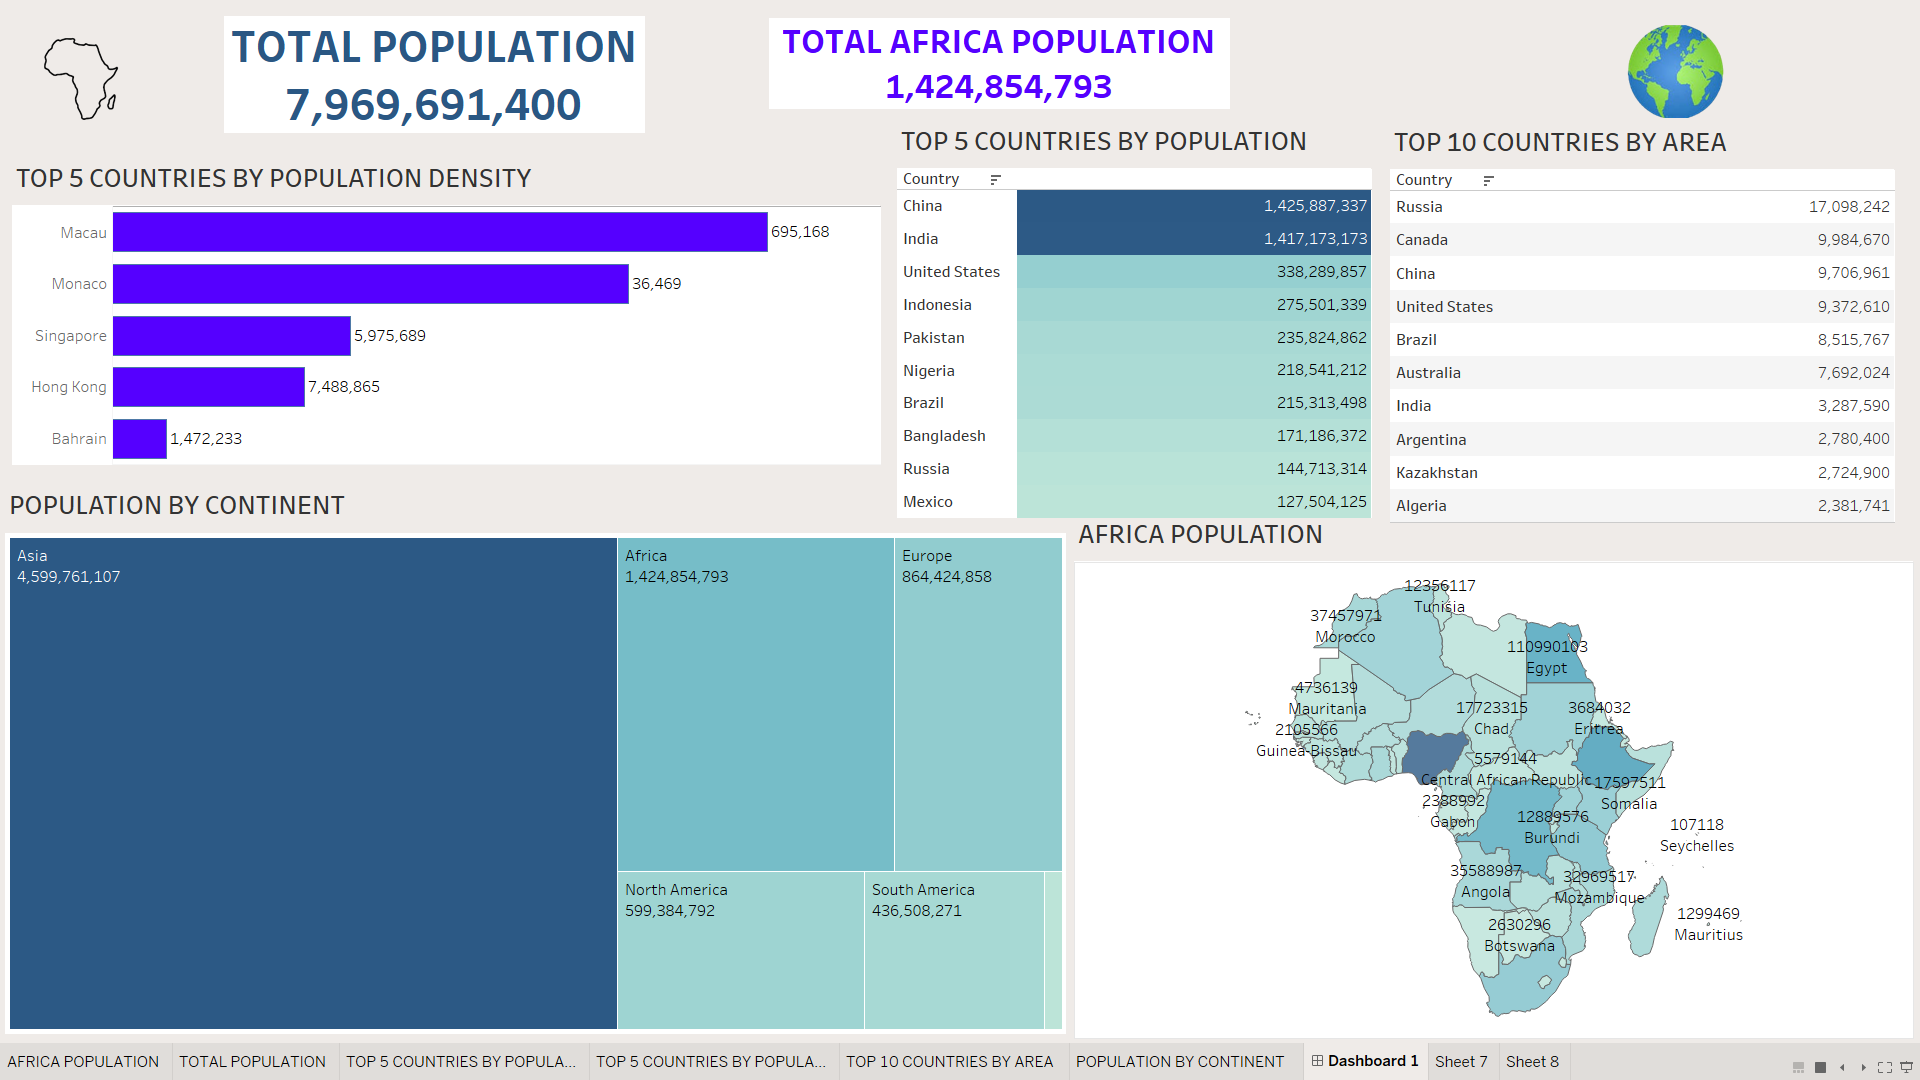

The dashboard page shown, as its layout file describes it:
{"tool":"tableau","page":{"name":"Dashboard 1","canvas":[1000,1000],"units":"permille","ordinal":0},"visuals":[{"type":"worksheet","title":"TOTAL POPULATION","mark":"Text","box":[116.5,15.3,315.6,138.7]},{"type":"worksheet","title":"Sheet 7","mark":"Automatic","box":[400.7,17.6,254.1,141]},{"type":"image","param":"C:/Users/USER/Downloads/AFRICA-removebg-preview (1).png","box":[7.2,21.2,90.5,102.2]},{"type":"image","param":"C:/Users/USER/Downloads/GLOBE-removebg-preview.png","box":[840.7,23.5,89.3,89.3]},{"type":"worksheet","title":"TOP 5 COUNTRIES BY POPULATION","mark":"Square","rows":["Country"],"box":[467.1,114,247.4,383.1]},{"type":"worksheet","title":"TOP 10 COUNTRIES BY AREA","mark":"Automatic","rows":["Country"],"box":[724.2,115.2,263.1,386.6]},{"type":"worksheet","title":"TOP 5 COUNTRIES BY POPULATION DENSITY","mark":"Automatic","rows":["Country"],"cols":["Population Density"],"box":[6,149.2,452.6,296.1]},{"type":"worksheet","title":"POPULATION BY CONTINENT ","mark":"Automatic","box":[2.4,463,552.8,541.7]},{"type":"worksheet","title":"AFRICA POPULATION","mark":"Automatic","box":[559.4,491.2,437.5,505.3]}]}

Visuals, with their boxes on the dashboard's canvas, which has no fixed pixel size, in thousandths of its width and height (x1, y1, x2, y2). These are canvas units, not pixel positions in the 1920x1080 screenshot, which may show the page scaled, cropped or inside an application window:
"TOTAL POPULATION" worksheet (Text marks): box(116, 15, 432, 154)
"Sheet 7" worksheet: box(401, 18, 655, 159)
image: box(7, 21, 98, 123)
image: box(841, 24, 930, 113)
"TOP 5 COUNTRIES BY POPULATION" worksheet (Square marks): box(467, 114, 714, 497)
"TOP 10 COUNTRIES BY AREA" worksheet: box(724, 115, 987, 502)
"TOP 5 COUNTRIES BY POPULATION DENSITY" worksheet: box(6, 149, 459, 445)
"POPULATION BY CONTINENT " worksheet: box(2, 463, 555, 1005)
"AFRICA POPULATION" worksheet: box(559, 491, 997, 996)
